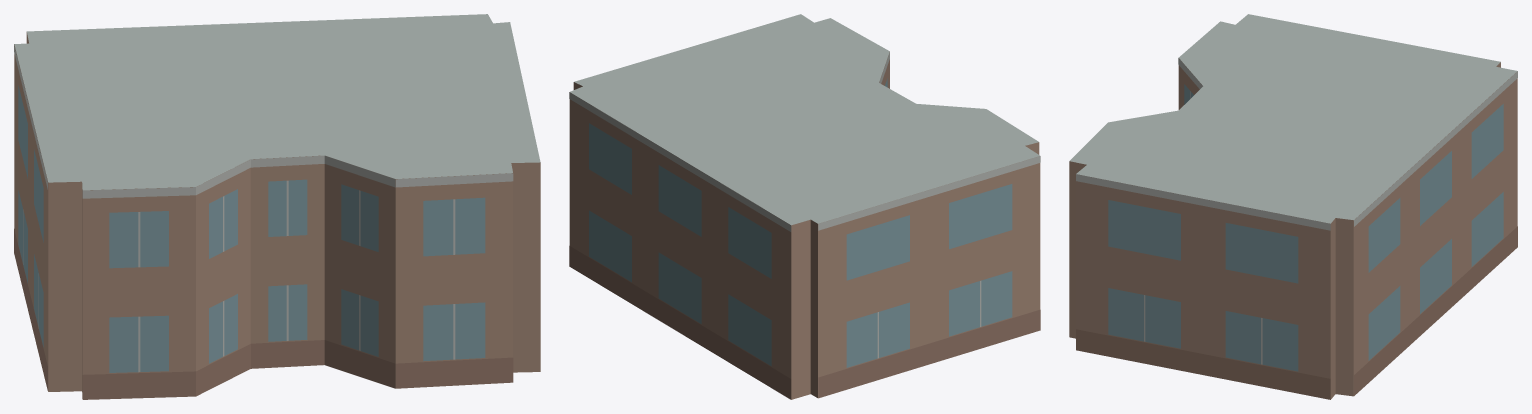
File: survey-upis-32656831.glb
3 renders of one model, left to right at view 1: azimuth 30°, elevation 25°; view 2: azimuth 150°, elevation 25°; view 3: azimuth 270°, elevation 25°, orthographic. The views are drawn at different scales.
Visible parts, largest first — view 1: survey-upis-32656831.tmp; view 2: survey-upis-32656831.tmp; view 3: survey-upis-32656831.tmp.
Boxes of the visible parts, x1,y1,x2,y2 form: survey-upis-32656831.tmp: (14, 14, 540, 399); survey-upis-32656831.tmp: (569, 14, 1040, 399); survey-upis-32656831.tmp: (1069, 14, 1517, 399).
Size of the model in its own units: 15.58 by 6.1 by 14.09.
